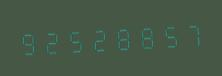eight: (132, 18, 154, 53), (109, 20, 131, 54)
five: (63, 22, 85, 57), (155, 17, 177, 52)
nine: (17, 24, 39, 59)
seven: (178, 16, 200, 51)
two: (40, 23, 62, 58), (86, 21, 108, 56)
